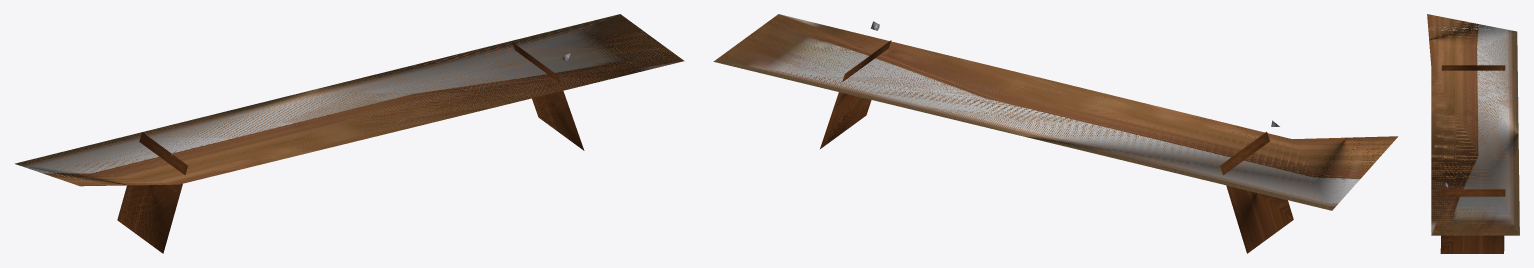
File: Bench.low.gltf
The picture shows the model from 3 angles, left to right: view 1: azimuth 30°, elevation 25°; view 2: azimuth 150°, elevation 25°; view 3: azimuth 270°, elevation 25°; orthographic projection. The views are drawn at different scales.
Visible parts, largest first — view 1: Bench; view 2: Bench; view 3: Bench.
Boxes of the visible parts, box(x1,y1,x2,y2) form: Bench: box(15, 14, 684, 253); Bench: box(713, 14, 1398, 253); Bench: box(1427, 14, 1519, 253).
Size of the model in its own units: 2.78 by 0.4284 by 0.5342.
2 materials, 2 textured.
